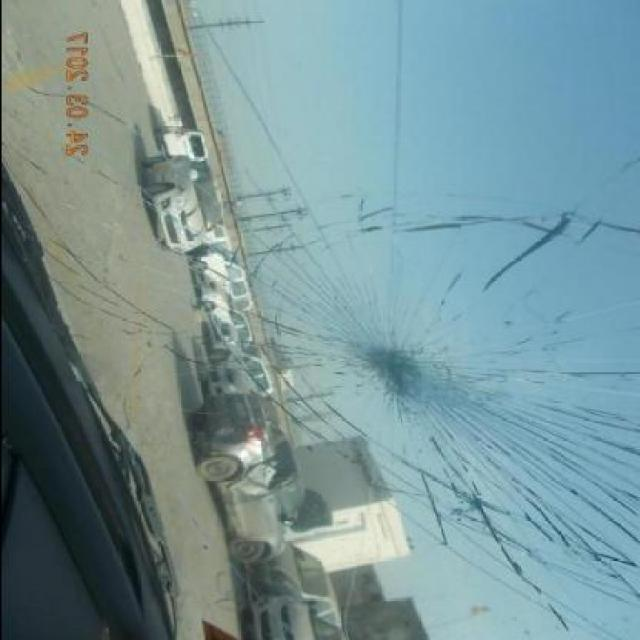damage: (305, 278, 568, 464)
